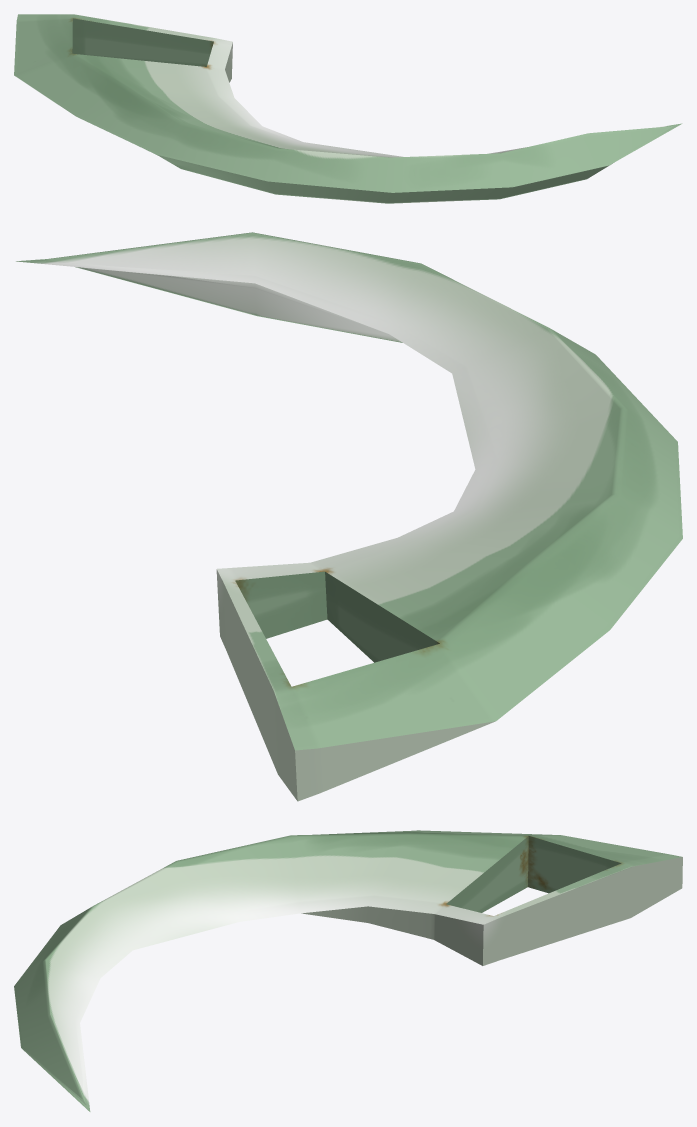
File: Boss2kamaRkaiten.fbx
3 renders of one model, top to bottom at view 1: azimuth 30°, elevation 25°; view 2: azimuth 150°, elevation 25°; view 3: azimuth 270°, elevation 25°, orthographic. The views are drawn at different scales.
Parts seen in each view (by area): view 1: kamaR1; view 2: kamaR1; view 3: kamaR1.
Boxes of the visible parts, x1,y1,x2,y2 form: kamaR1: (14, 14, 682, 203); kamaR1: (16, 232, 682, 801); kamaR1: (14, 830, 682, 1111).
Size of the model in its own units: 5.39 by 0.5948 by 5.8.
1 material, 1 textured.
